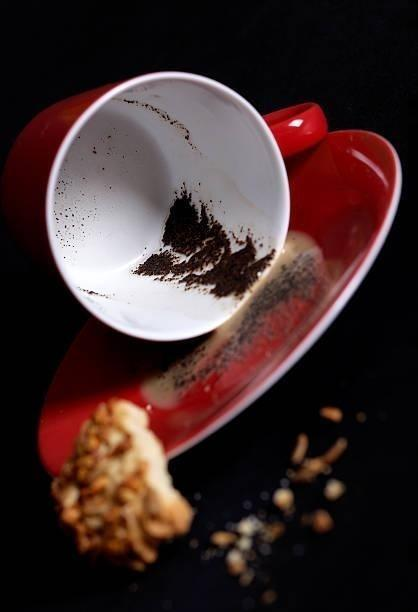cup-handle: (0, 69, 328, 346)
